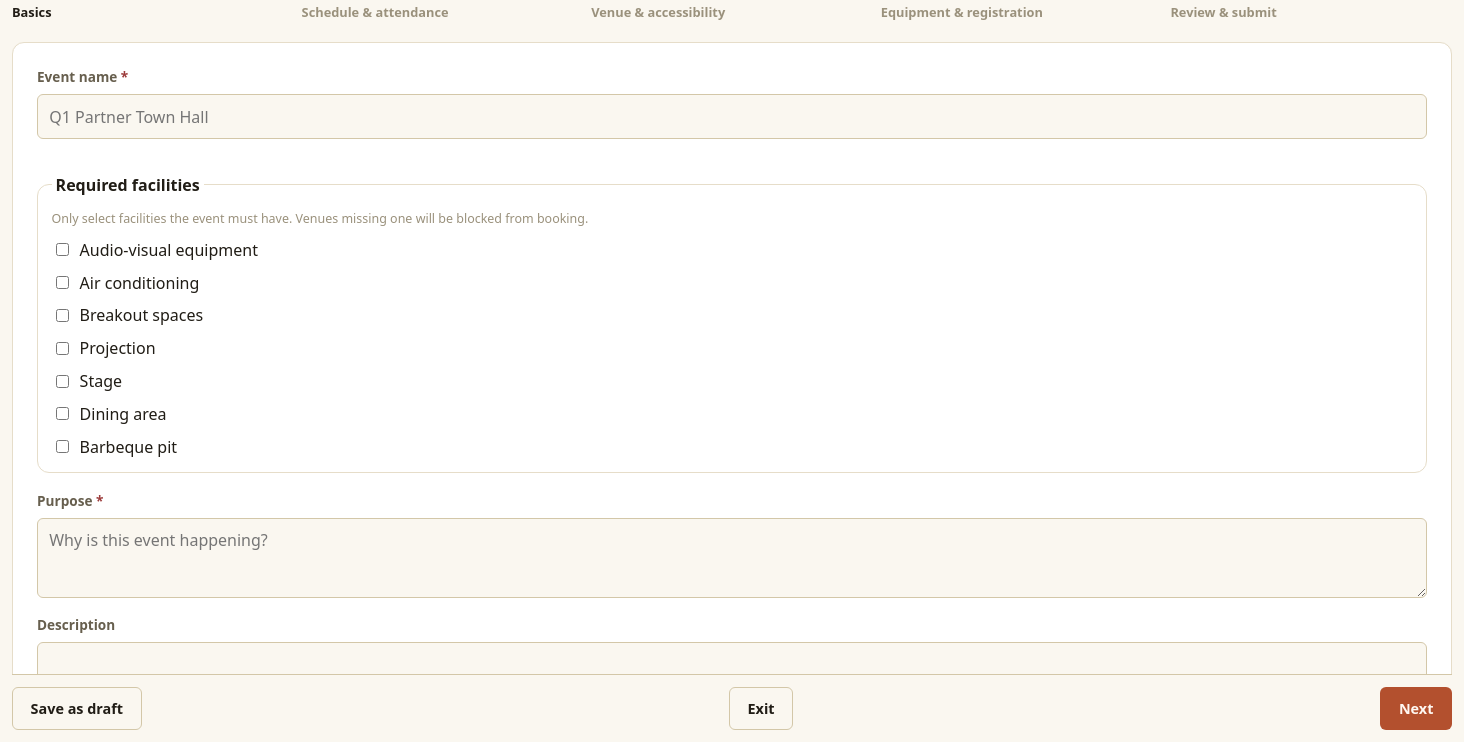
Test: EventRequestWizardPage — EO01 (save a draft) and EO02 (submit) › shows an inline error on the accessibility field when the backend reports it missing
This screenshot has width=1464, height=742.
Click the button "Next" at (1416, 709), box [1380, 687, 1452, 730]
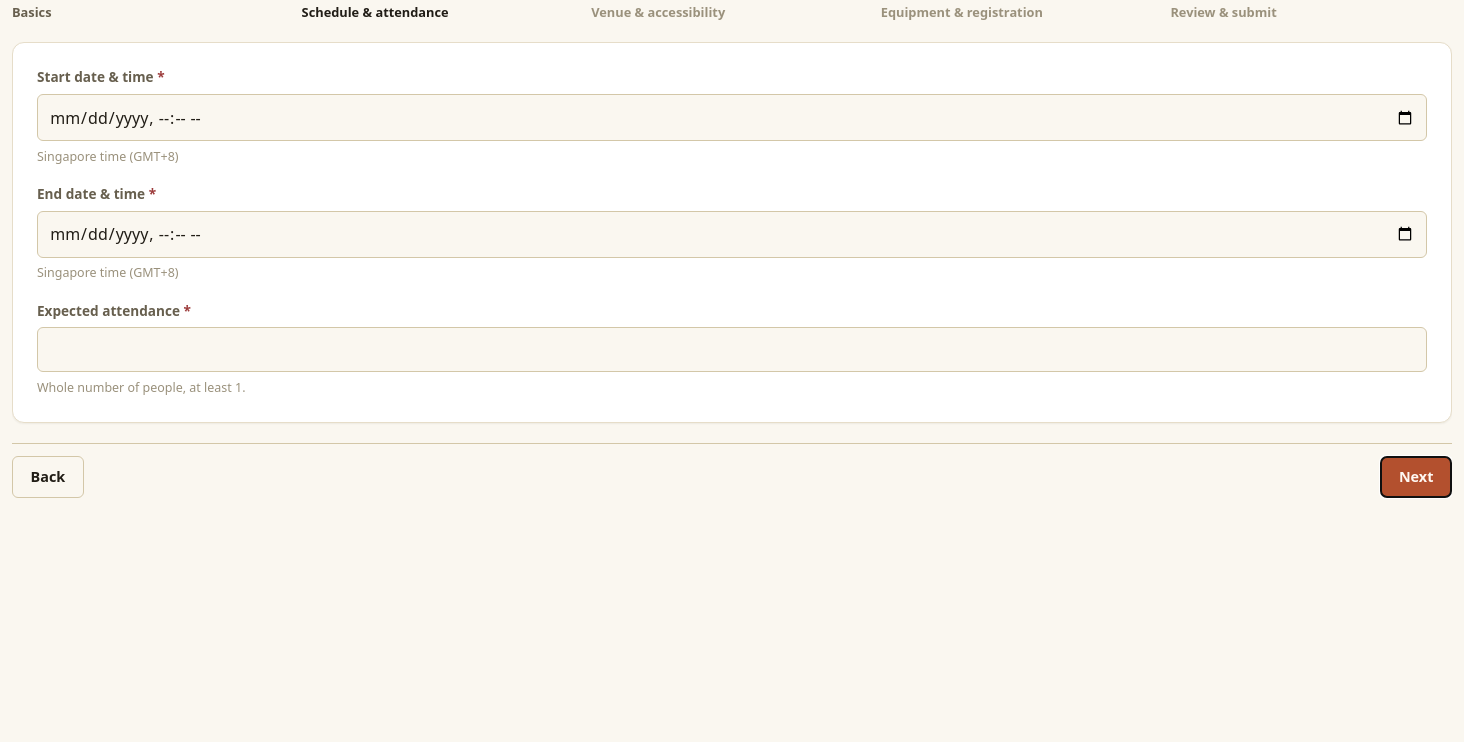
Click the button "Next" at (1416, 477), box [1380, 456, 1452, 498]
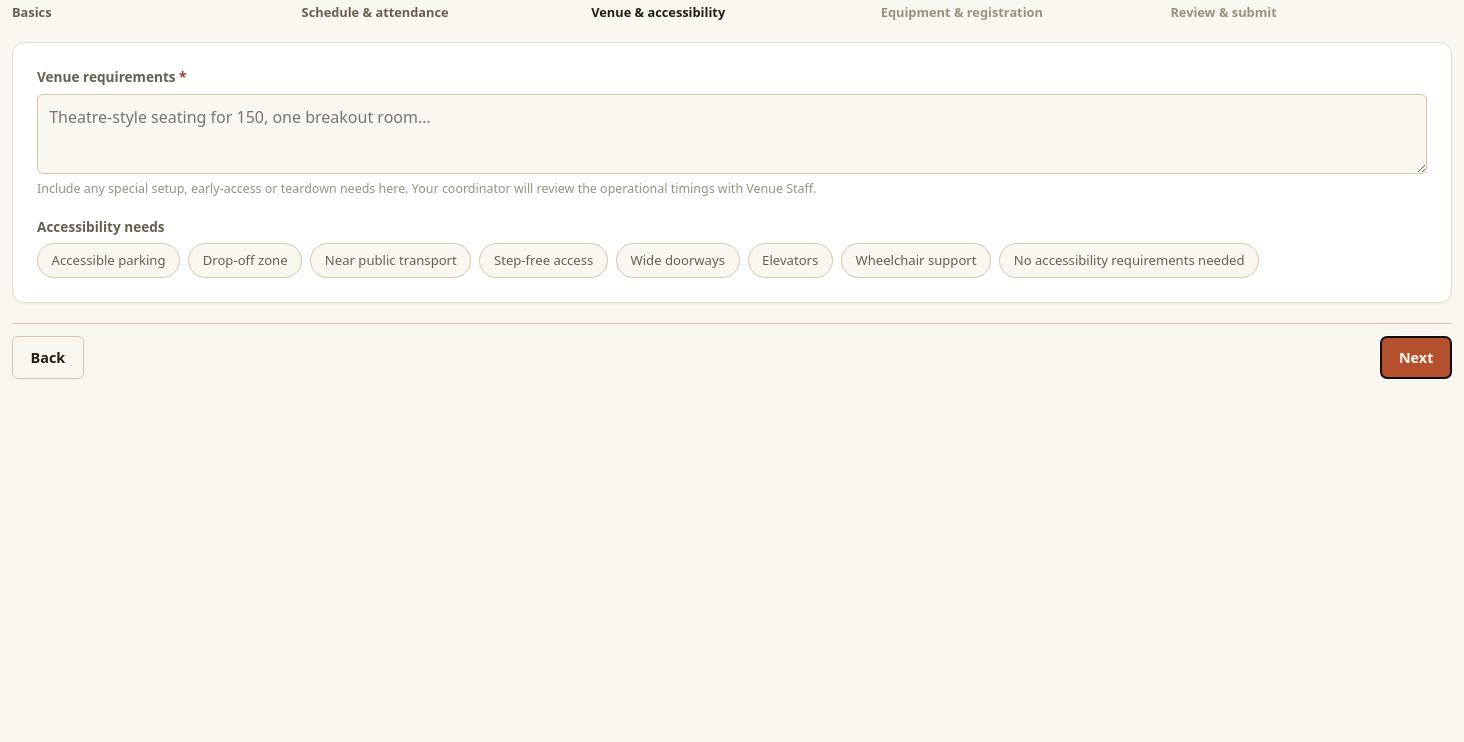
Click the button "Next" at (1416, 357), box [1380, 336, 1452, 379]
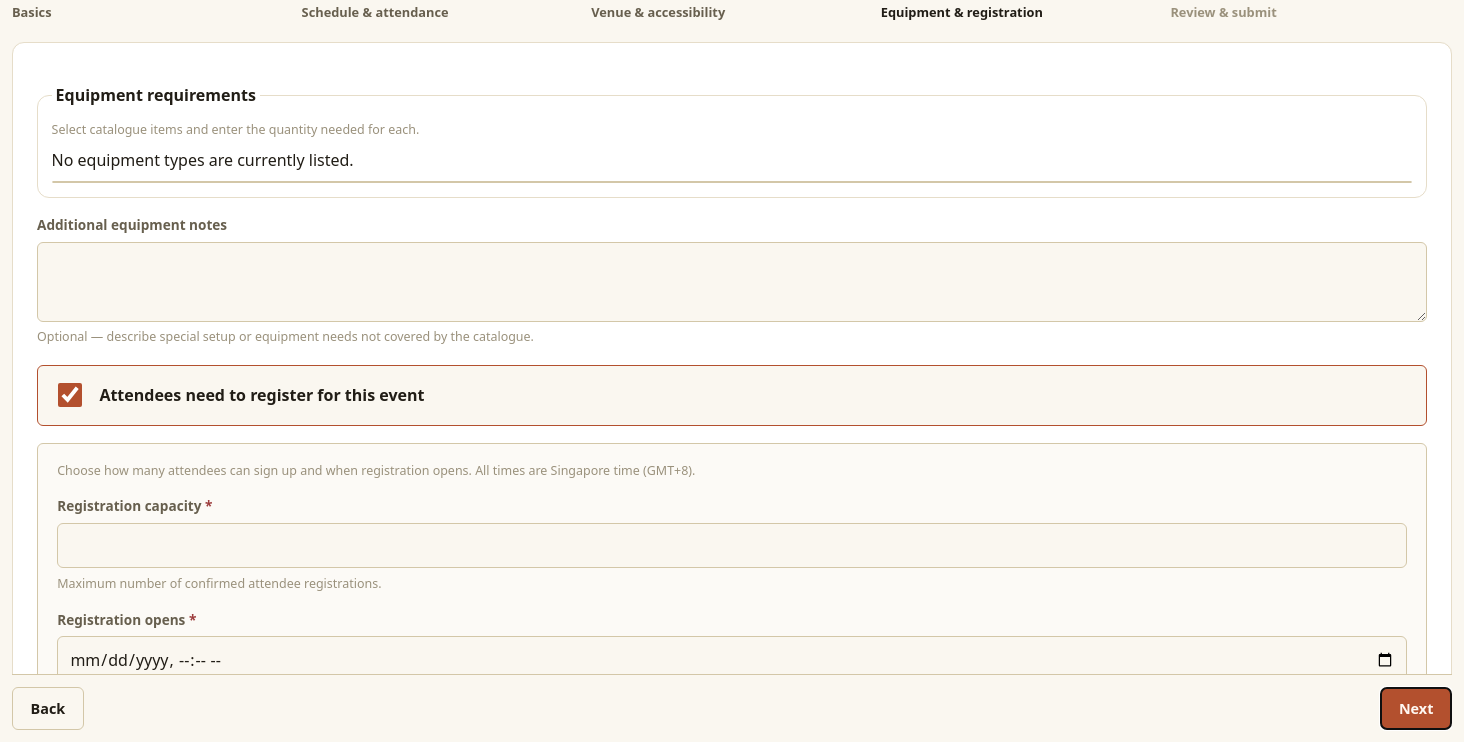
Click the button "Next" at (1416, 709), box [1380, 687, 1452, 730]
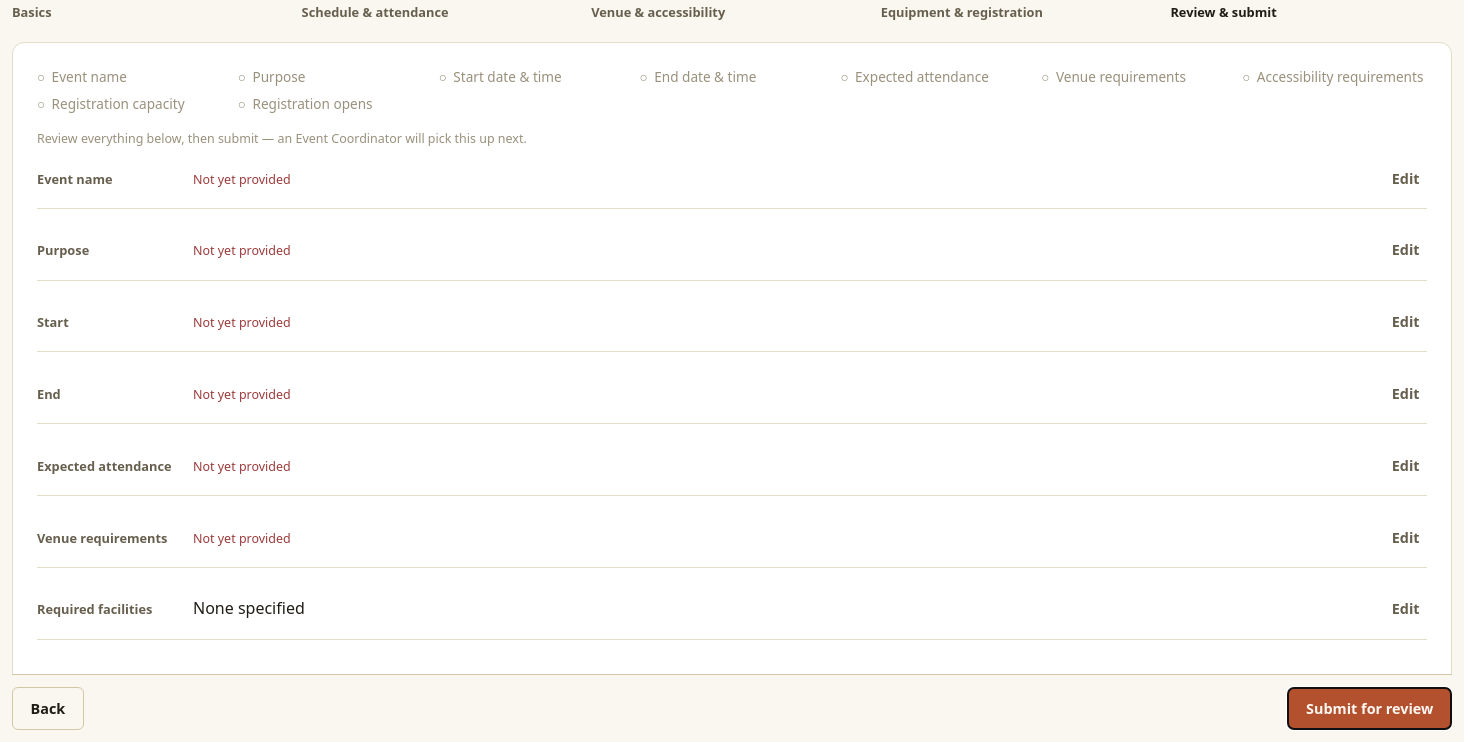
Click the button "Submit for review" at (1370, 709), box [1288, 687, 1452, 730]
(page scrolled)
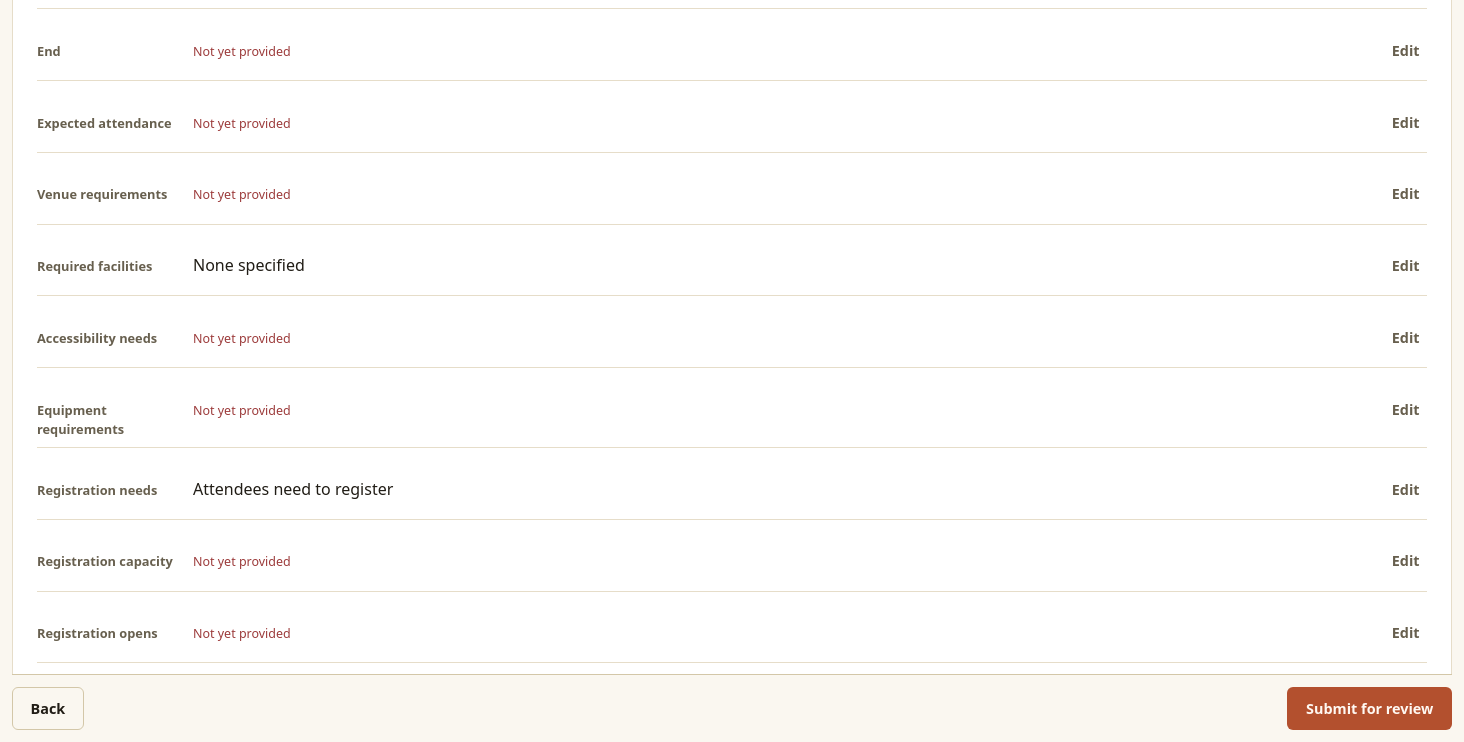
Click the button "Edit" in the row of "Accessibility needs" at (1406, 338), box [1384, 316, 1427, 359]
(page scrolled)
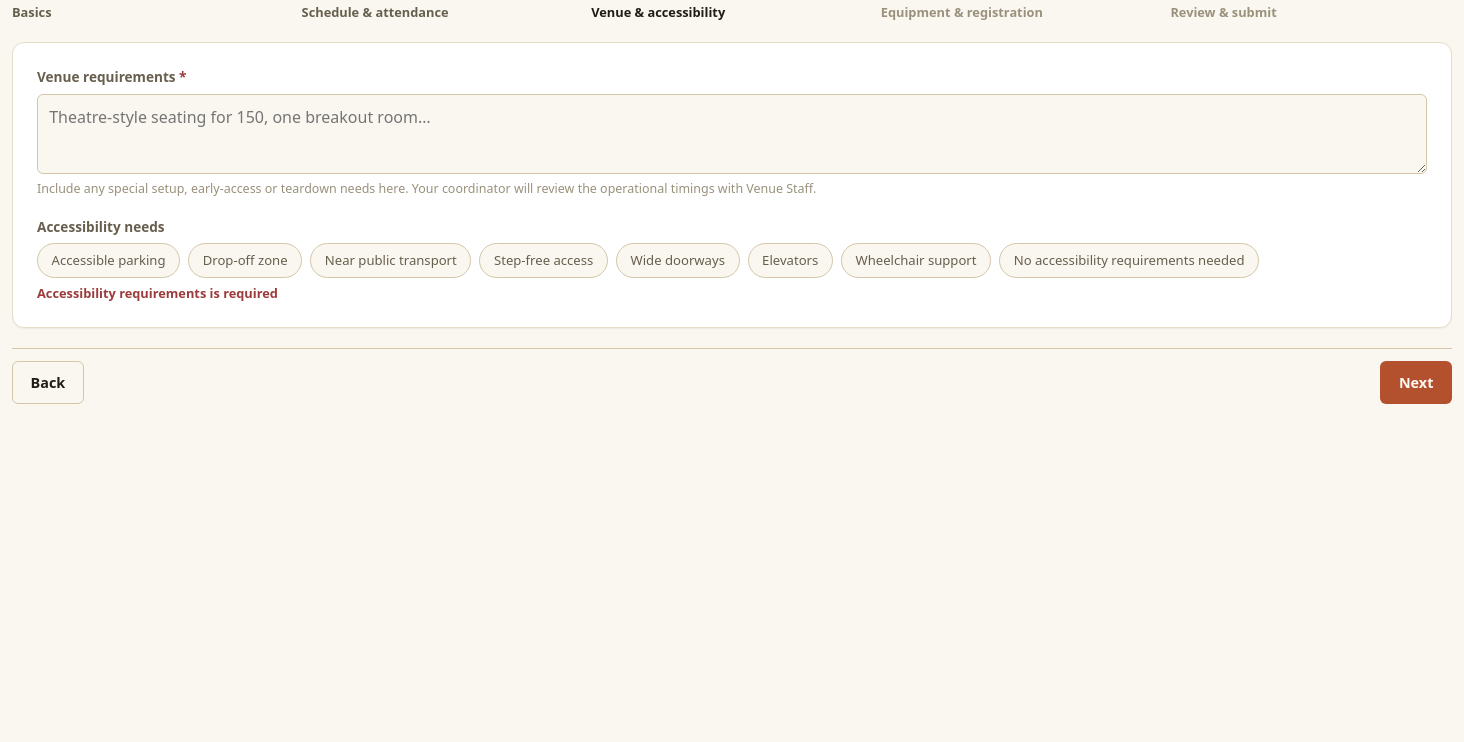
Check: the text "Accessibility requirements is required" is shown, box [37, 284, 278, 302]
